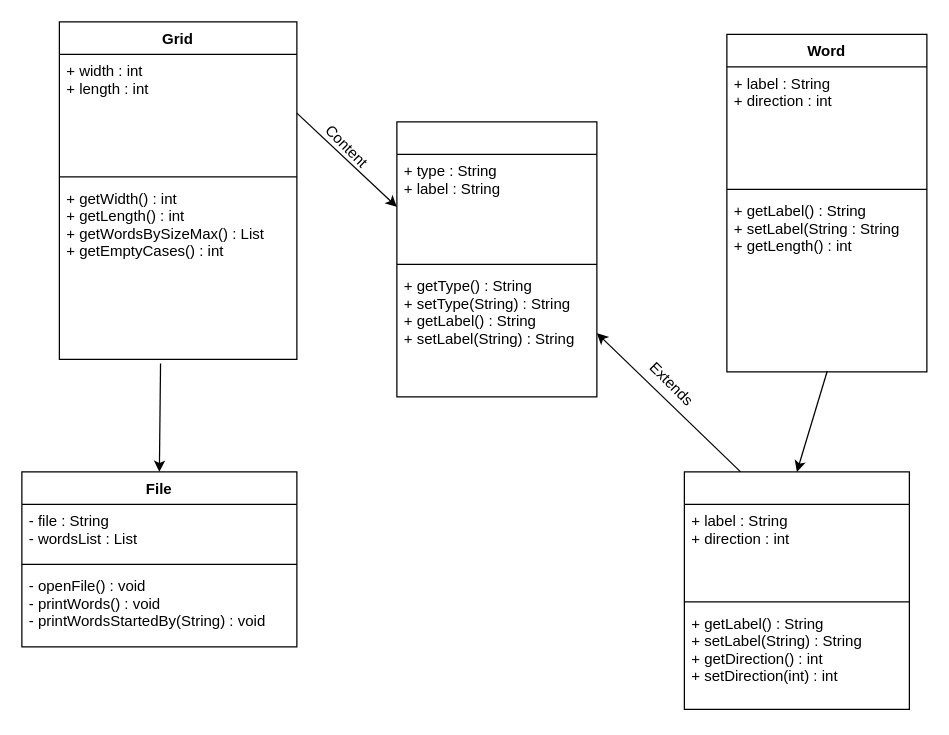
This 949x735 diagram has some shape labels left out. Here are the shapes that lost their labels. From the top down, the box of each, then its label:
(396, 121, 597, 397): Case
(683, 471, 909, 709): Definition
